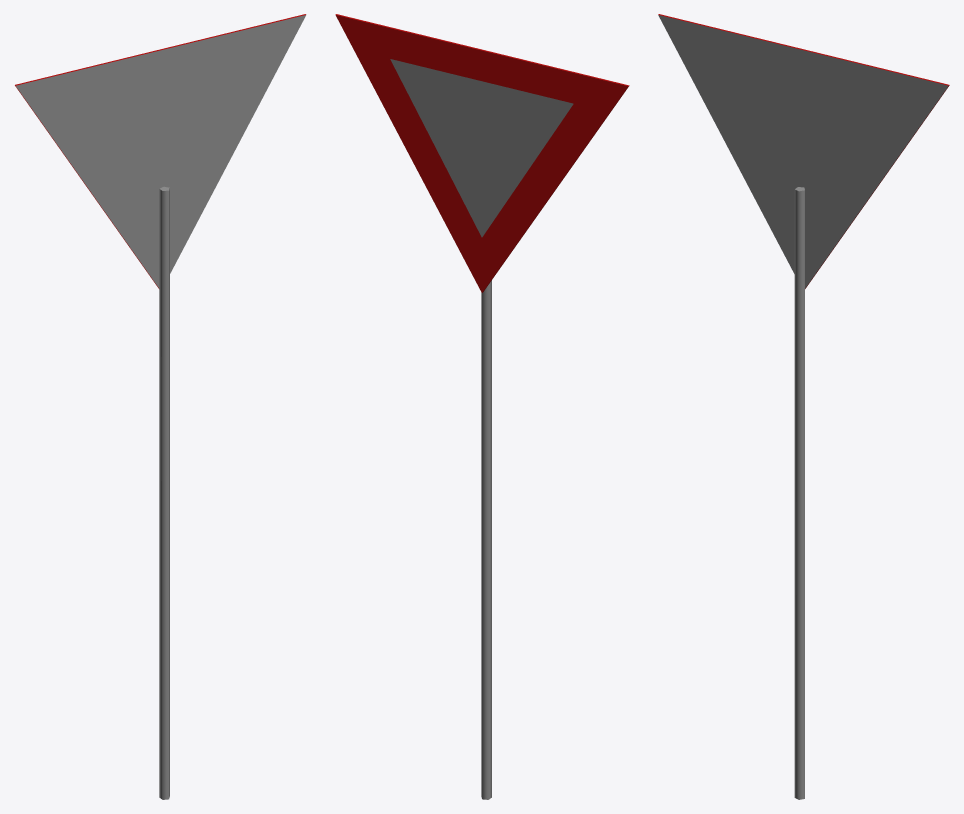
File: VikepliktSkilt.FBX
3 renders of one model, left to right at view 1: azimuth 30°, elevation 25°; view 2: azimuth 150°, elevation 25°; view 3: azimuth 330°, elevation 25°, orthographic.
Parts seen in each view (by area): view 1: Vikepliktskilt; view 2: Vikepliktskilt; view 3: Vikepliktskilt.
Boxes of the visible parts, box(x1,y1,x2,y2) form: Vikepliktskilt: box(15, 14, 306, 799); Vikepliktskilt: box(335, 14, 629, 799); Vikepliktskilt: box(658, 14, 949, 799).
Bounding box in the file's own units: 30 × 73.42 × 1.31.
